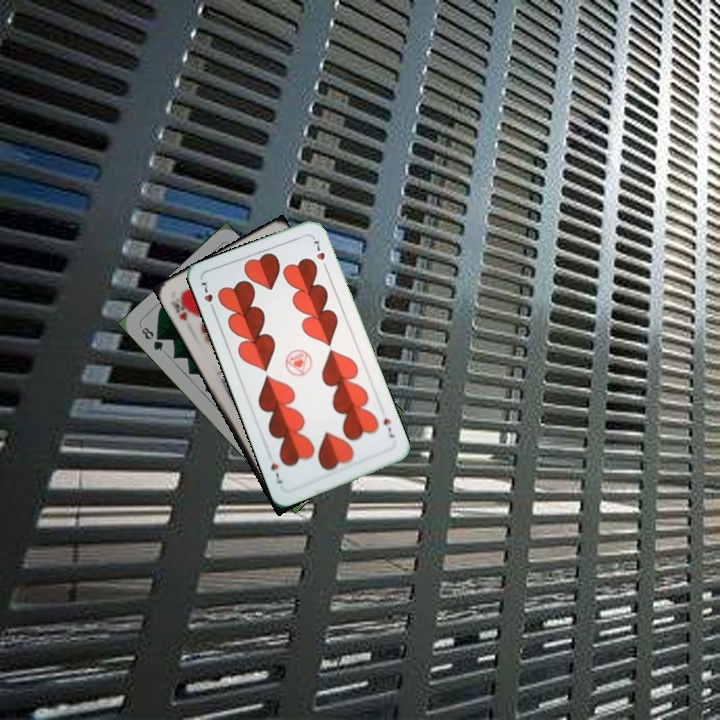G8: (137, 322, 166, 354)
H7: (197, 278, 218, 315), (379, 414, 397, 441)
HK: (167, 292, 192, 323)
